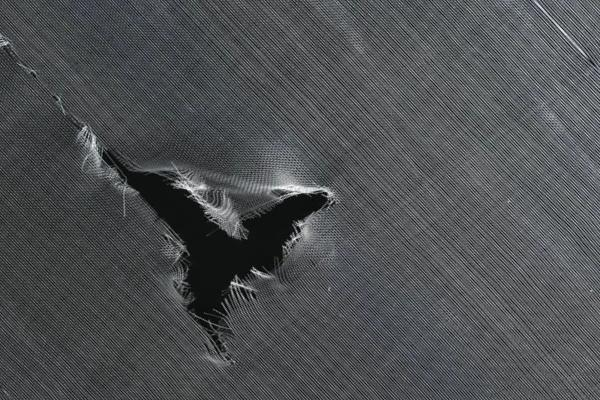hole: (96, 142, 333, 364)
